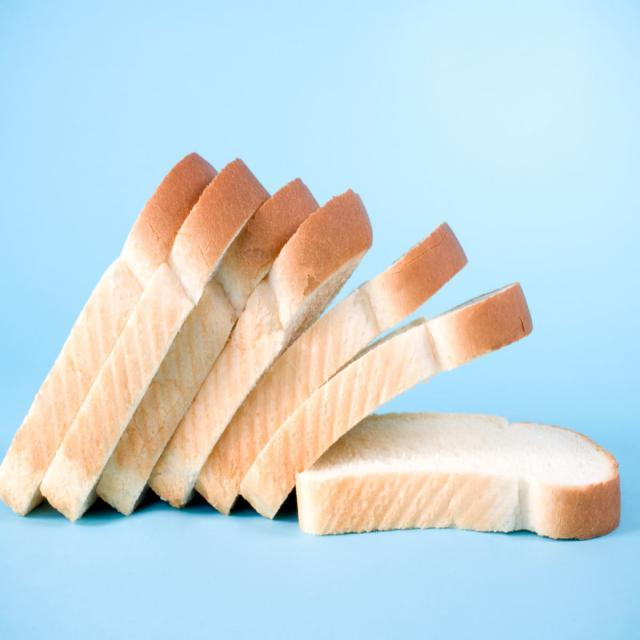Bread: (0, 152, 623, 546)
